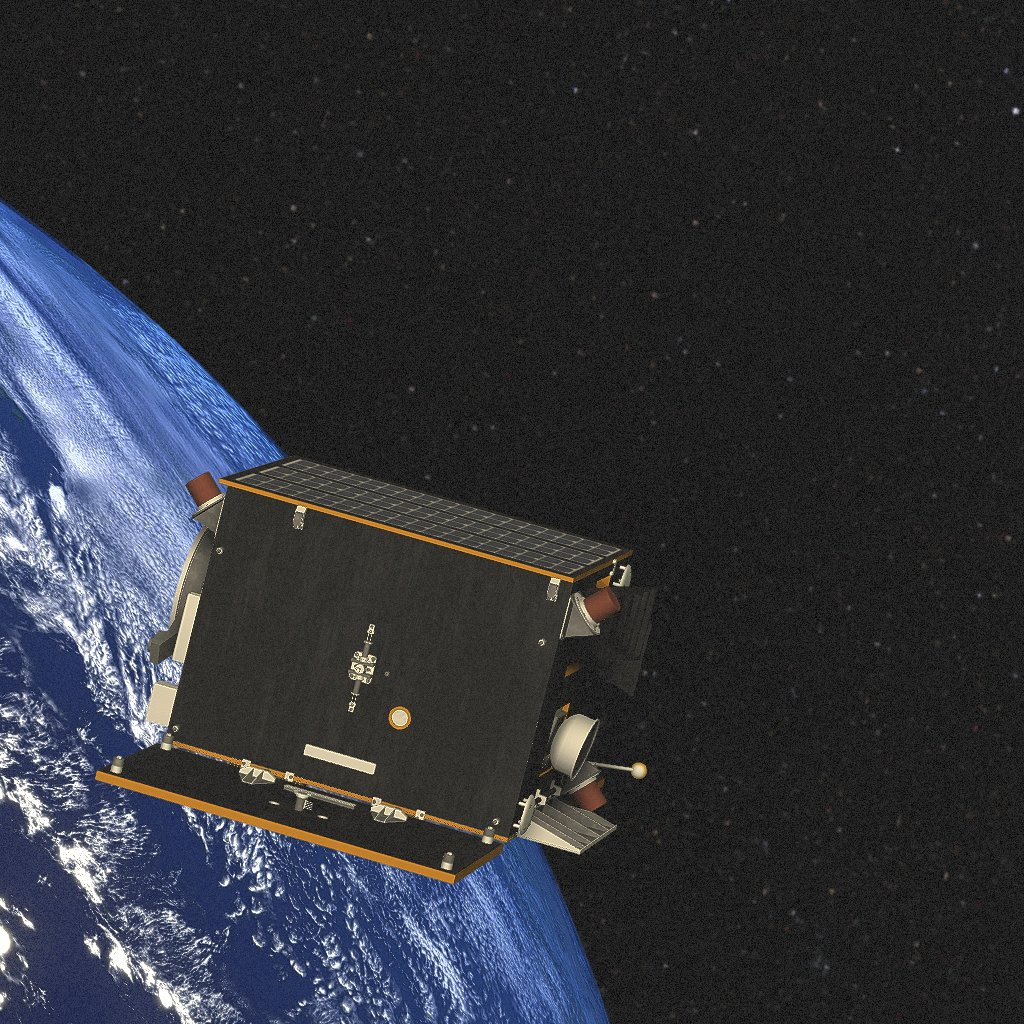proba_2: (95, 456, 658, 884)
